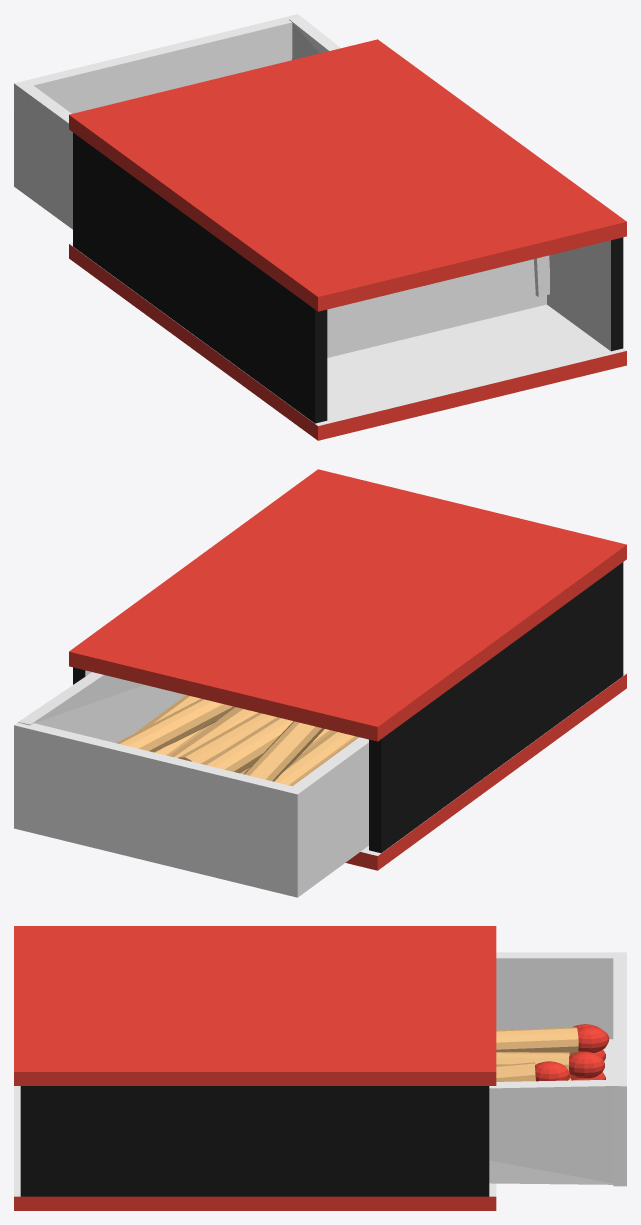
The picture shows the model from 3 angles, top to bottom: view 1: azimuth 30°, elevation 25°; view 2: azimuth 150°, elevation 25°; view 3: azimuth 270°, elevation 25°; orthographic projection. The views are drawn at different scales.
Parts seen in each view (by area): view 1: mesh_1259632355, mesh_535508067, mesh_1082834533, mesh_7603164, mesh_1666666727, mesh_2078011135, mesh_1041868421, mesh_830282067; view 2: mesh_1259632355, mesh_7603164, mesh_535508067, mesh_1041868421, mesh_830282067, mesh_1082834533, mesh_856328778, mesh_180280331, mesh_1461363982, mesh_1807929997, mesh_904811230, mesh_408723702; view 3: mesh_1259632355, mesh_2078011135, mesh_830282067, mesh_1041868421, mesh_1082834533, mesh_7603164, mesh_180280331, mesh_1461363982, mesh_1135075353, mesh_904811230, mesh_738463832, mesh_492091278.
Boxes of the visible parts, box(x1,y1,x2,y2) form: mesh_1259632355: box(69, 39, 626, 311); mesh_535508067: box(73, 132, 327, 423); mesh_1082834533: box(69, 243, 626, 440); mesh_7603164: box(14, 14, 300, 191); mesh_1666666727: box(327, 259, 546, 357); mesh_2078011135: box(547, 237, 623, 351); mesh_1041868421: box(14, 80, 72, 229); mesh_830282067: box(289, 16, 549, 296); mesh_1259632355: box(69, 469, 626, 741); mesh_7603164: box(14, 722, 304, 897); mesh_535508067: box(369, 562, 623, 852); mesh_1041868421: box(285, 737, 368, 892); mesh_830282067: box(18, 672, 185, 742); mesh_1082834533: box(345, 673, 626, 870); mesh_856328778: box(116, 698, 235, 752); mesh_180280331: box(244, 721, 324, 781); mesh_1461363982: box(202, 717, 292, 773); mesh_1807929997: box(274, 731, 356, 785); mesh_904811230: box(178, 712, 276, 763); mesh_408723702: box(170, 708, 257, 758); mesh_1259632355: box(14, 926, 496, 1085); mesh_2078011135: box(20, 1086, 489, 1196); mesh_830282067: box(489, 1079, 619, 1184); mesh_1041868421: box(496, 952, 626, 1039); mesh_1082834533: box(14, 1086, 496, 1210); mesh_7603164: box(613, 958, 626, 1186); mesh_180280331: box(496, 1027, 578, 1054); mesh_1461363982: box(496, 1052, 570, 1079); mesh_1135075353: box(569, 1051, 604, 1078); mesh_904811230: box(496, 1062, 535, 1081); mesh_738463832: box(577, 1026, 609, 1052); mesh_492091278: box(535, 1061, 569, 1081).
Bounding box in the file's own units: 25.05 × 11.14 × 44.48.
